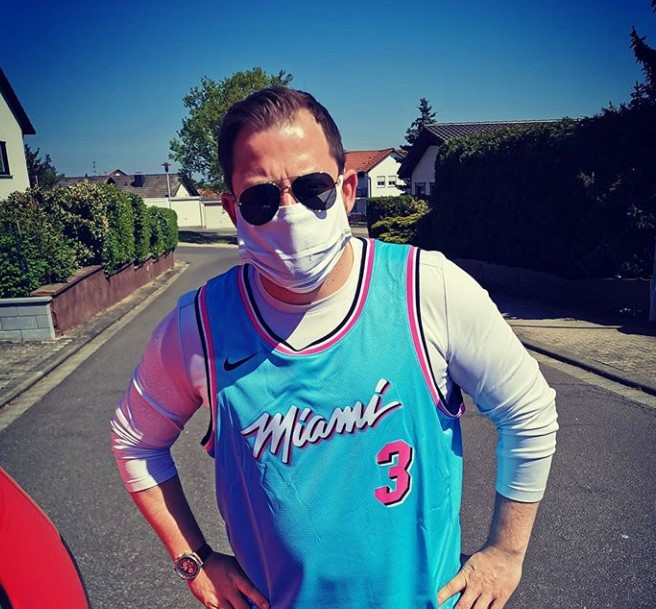face_with_mask: (213, 86, 363, 290)
